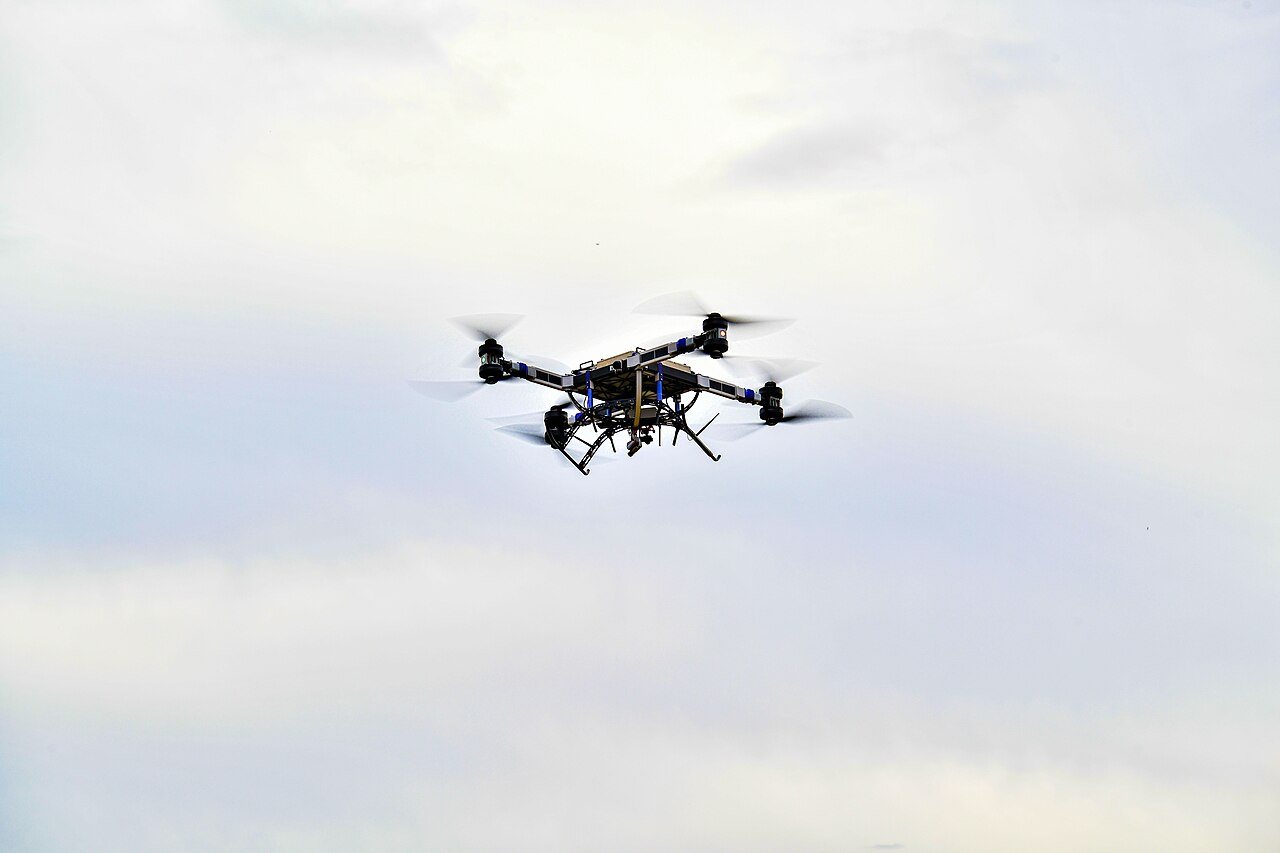drone: (402, 287, 860, 478)
